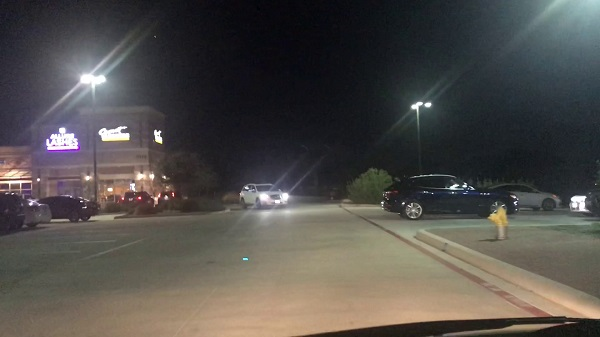car: (381, 172, 516, 220), (489, 178, 560, 210), (41, 195, 99, 221), (239, 179, 289, 207), (124, 187, 157, 212)
